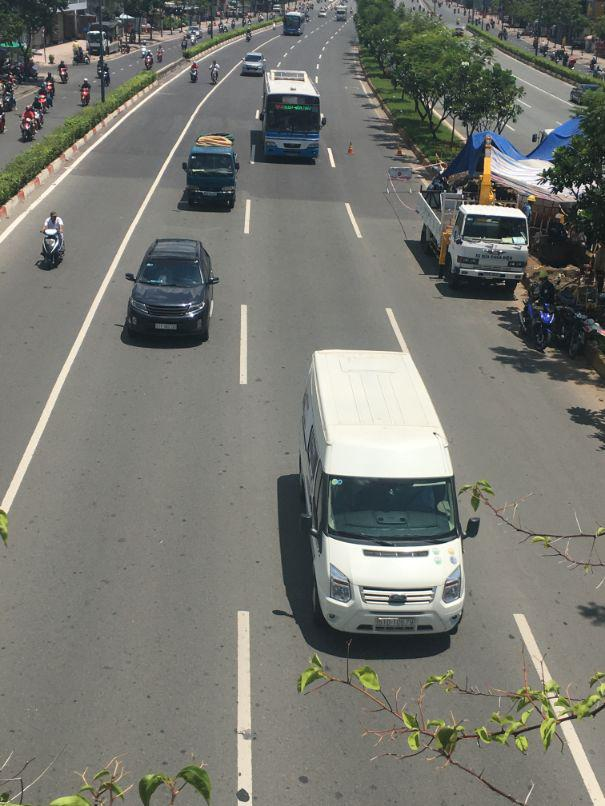bus: (259, 69, 322, 164)
car: (289, 315, 468, 648), (124, 235, 221, 343), (241, 53, 266, 79), (284, 14, 305, 37)
motorbike: (37, 226, 65, 268), (190, 64, 198, 83)
truck: (443, 205, 531, 291), (182, 136, 241, 211), (87, 24, 111, 55)
